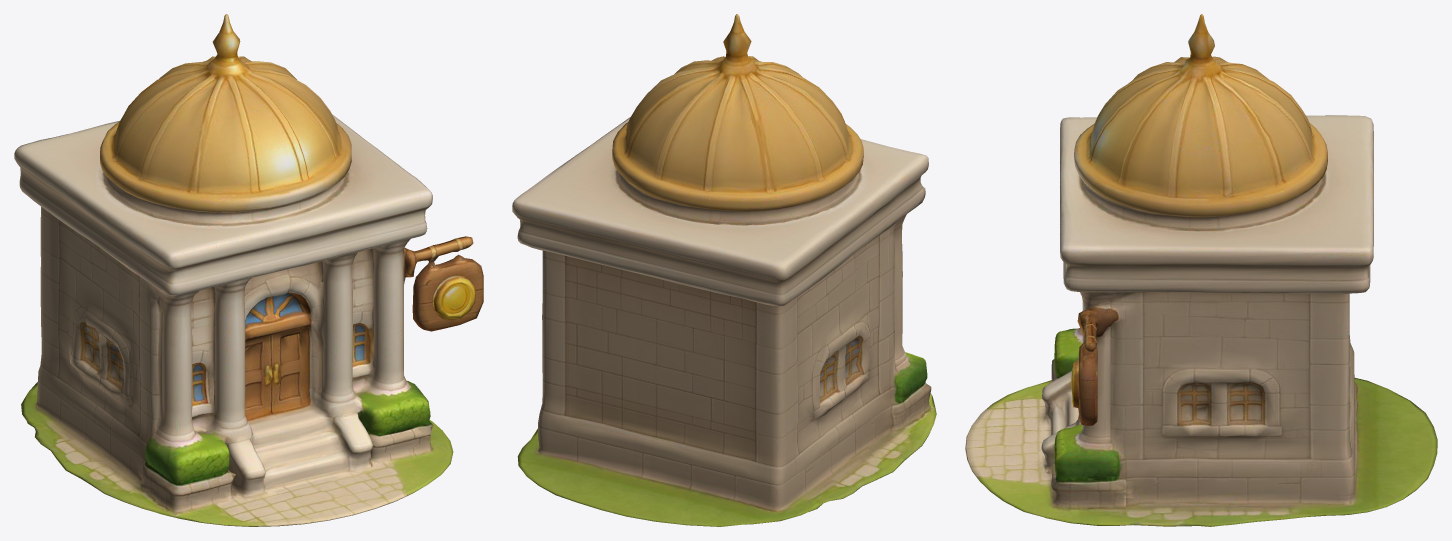
The model's file is 02-bank.glb.
The picture shows the model from 3 angles, left to right: view 1: azimuth 30°, elevation 25°; view 2: azimuth 150°, elevation 25°; view 3: azimuth 270°, elevation 25°; orthographic projection. The views are drawn at different scales.
Parts seen in each view (by area): view 1: tripo_node_7c538559-0fc1-45ce-97ca-282bea205886; view 2: tripo_node_7c538559-0fc1-45ce-97ca-282bea205886; view 3: tripo_node_7c538559-0fc1-45ce-97ca-282bea205886.
Part boxes in pixels (x1,y1,x2,y2): tripo_node_7c538559-0fc1-45ce-97ca-282bea205886: (14, 14, 483, 526); tripo_node_7c538559-0fc1-45ce-97ca-282bea205886: (512, 14, 936, 526); tripo_node_7c538559-0fc1-45ce-97ca-282bea205886: (965, 14, 1437, 526).
Bounding box in the file's own units: 0.8669 × 0.9702 × 0.968.
Materials: 1 (1 with a texture image).
